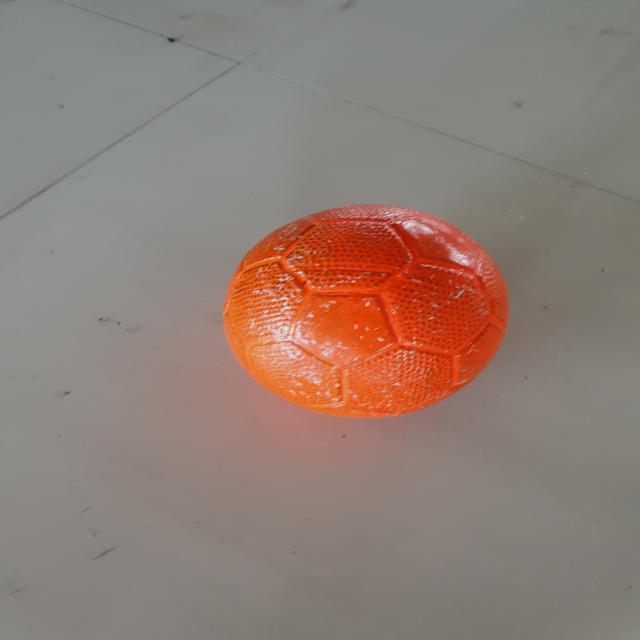bola: (210, 196, 524, 428)
